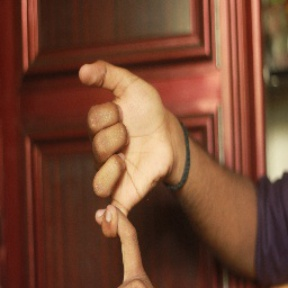S: (72, 56, 177, 288)
